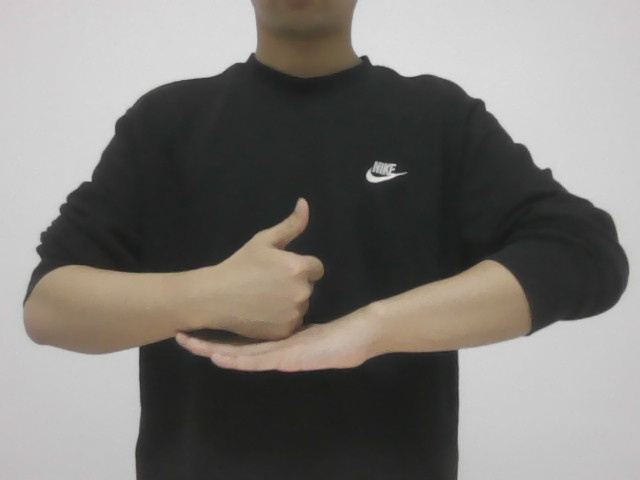new: (167, 195, 379, 376)
